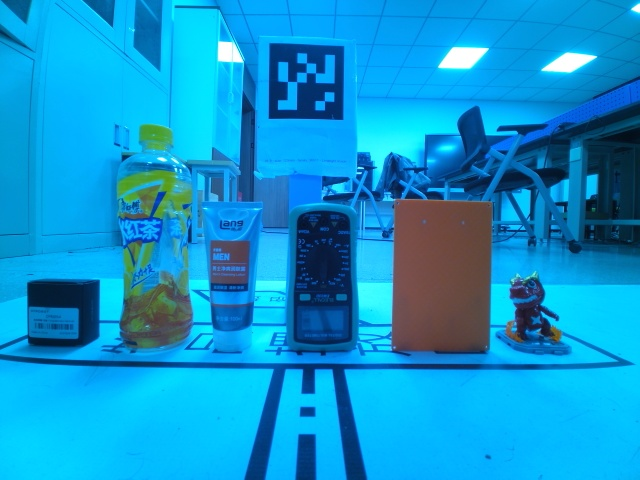banzi: (27, 278, 101, 348)
binghongcha: (497, 271, 573, 356)
dabao: (199, 200, 265, 353)
dianbiao: (114, 123, 193, 355)
hezi: (285, 203, 357, 353)
long: (391, 198, 494, 354)
